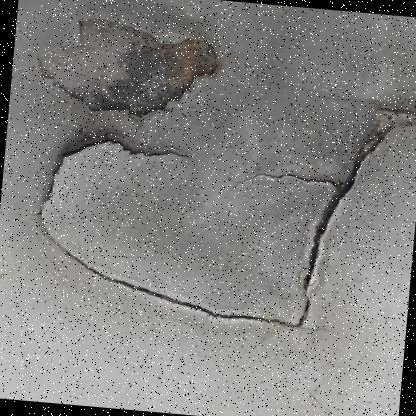Crack: (0, 29, 415, 350), (16, 0, 232, 135)
